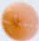Balloon: (1, 2, 39, 41)
